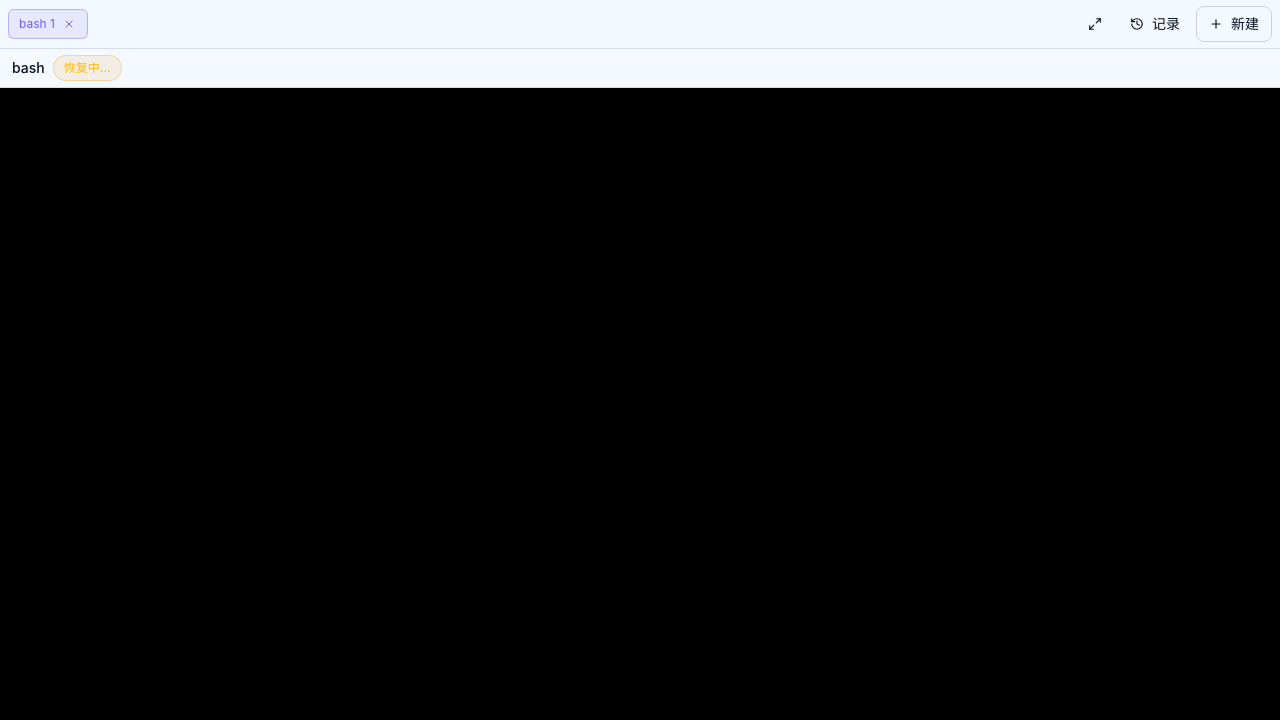
Scenario: TerminalPanel › 审计对话框分页展示记录
This screenshot has width=1280, height=720.
Expected: the element with test id "terminal-tabs" is shown, [0, 0, 1279, 49]
Click the button with aria-label "操作记录": point(1155, 24) [1118, 6, 1192, 42]
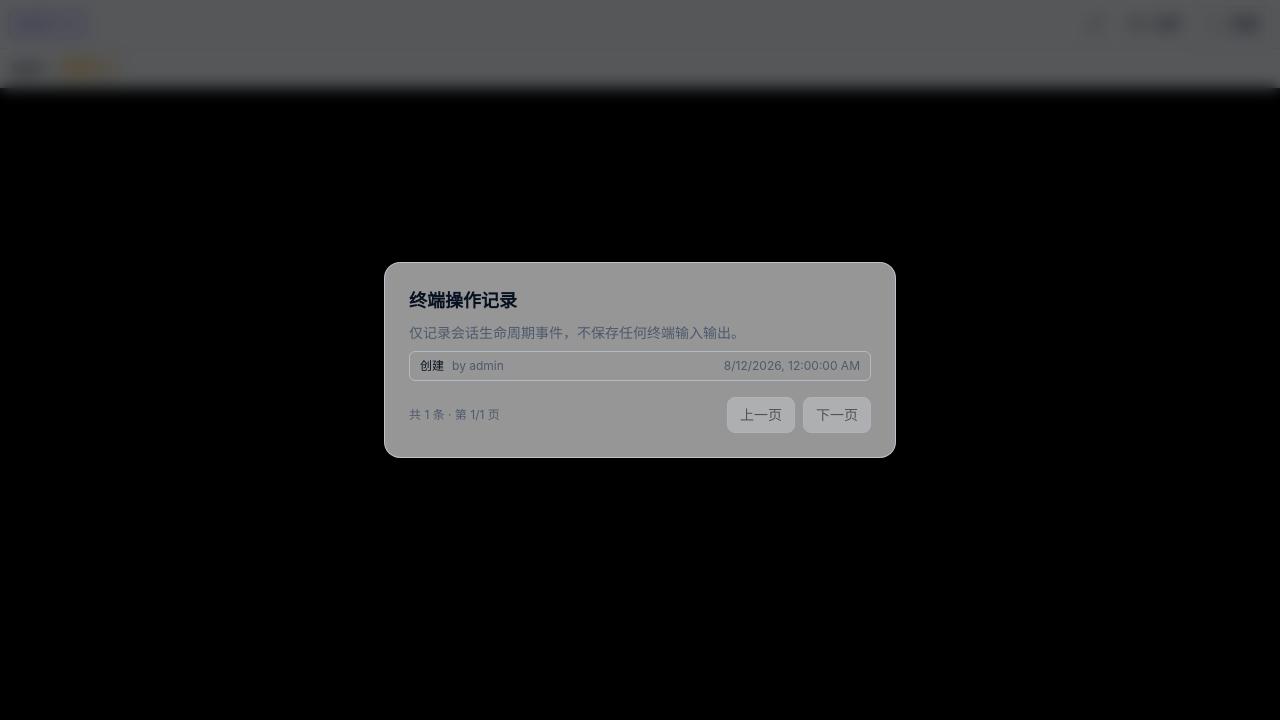
Expected: the text "创建" is shown, [420, 358, 444, 373]
